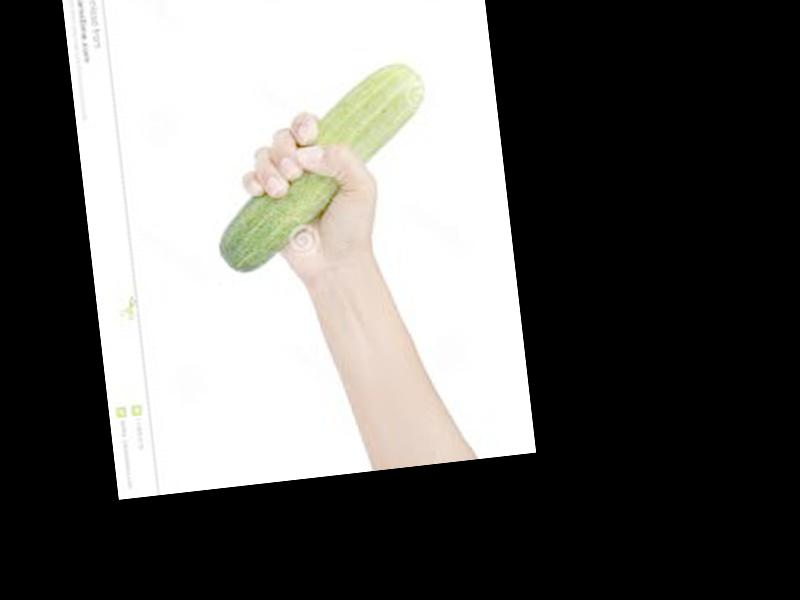Cucumber: (200, 61, 441, 279)
